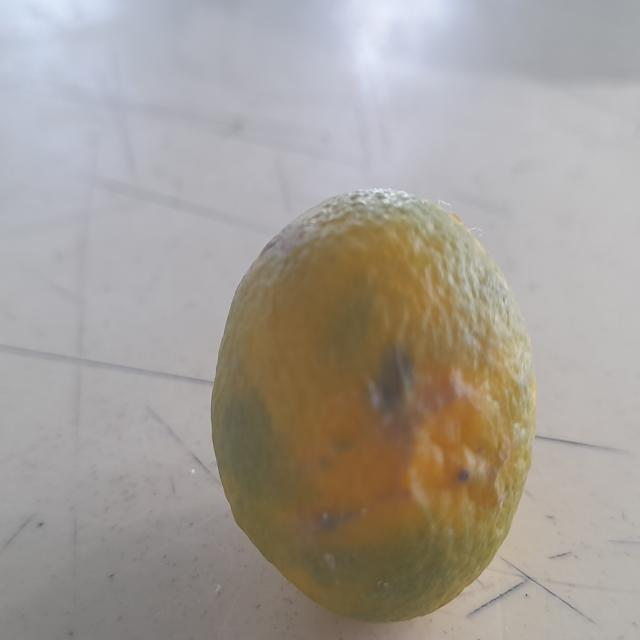greening: (208, 190, 534, 616)
